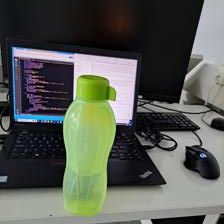bottle: (58, 73, 118, 216)
